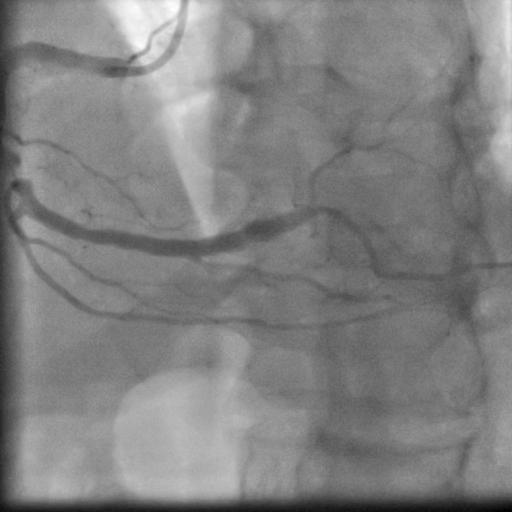Stenosis: (2, 144, 40, 200)
